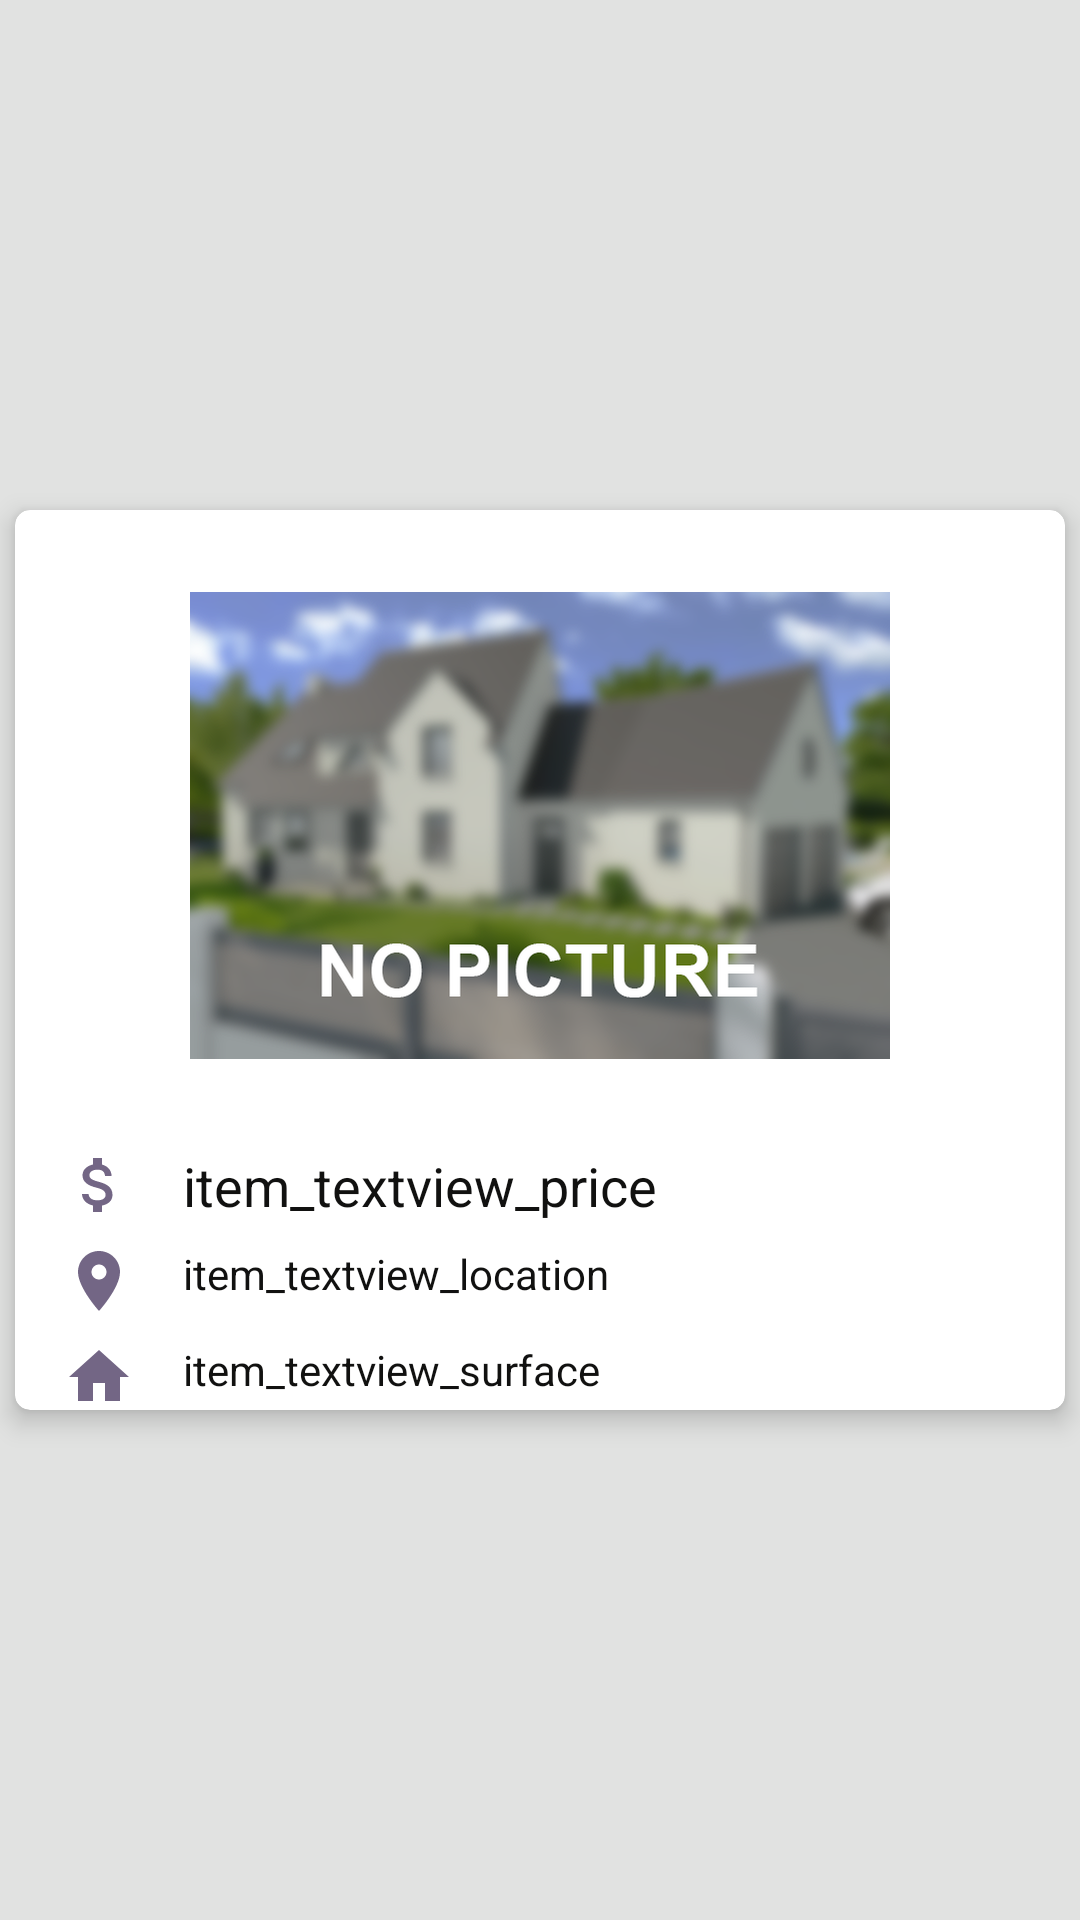

Named icons in this screenshot (1080 x 1920) and their bounding boxes, (x1=x1, y1=y1, x2=x2, y2=y2):
dollar: (x1=82, y1=1158, x2=113, y2=1212)
home: (x1=69, y1=1350, x2=129, y2=1401)
